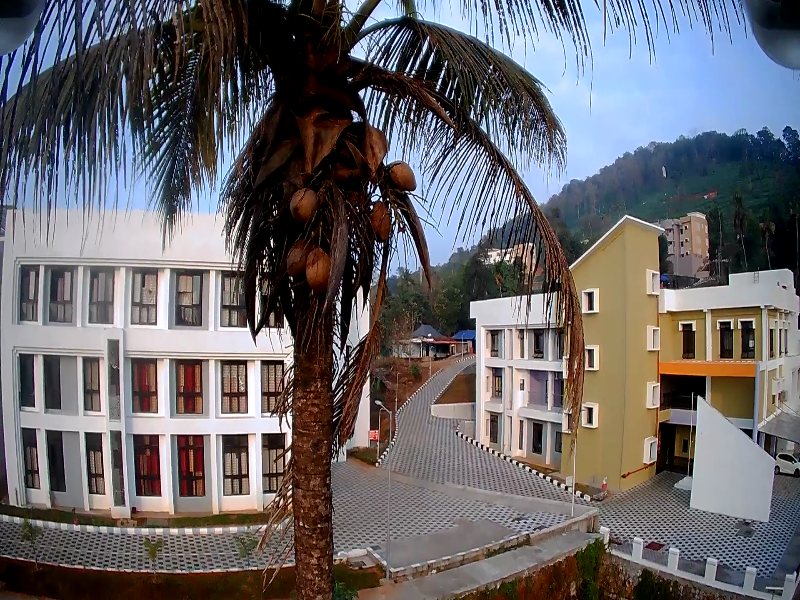coconut: (303, 247, 329, 286), (391, 159, 416, 194), (287, 186, 315, 217), (369, 200, 387, 238), (285, 242, 303, 270)
